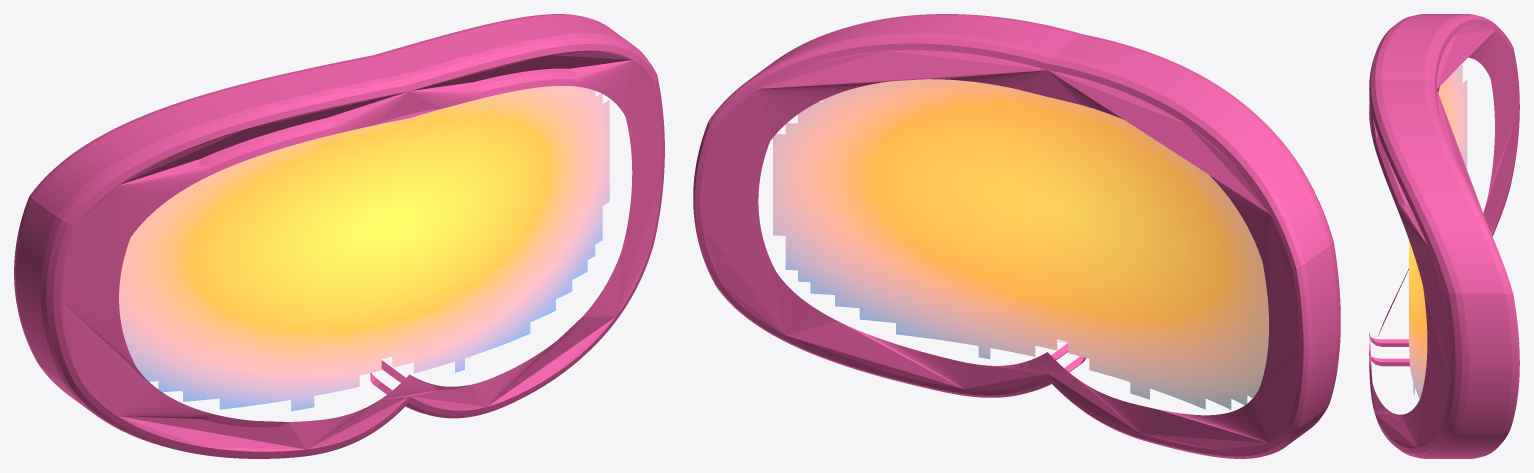
Rendered from Ski_goggles.glb.
3 renders of one model, left to right at view 1: azimuth 30°, elevation 25°; view 2: azimuth 150°, elevation 25°; view 3: azimuth 270°, elevation 25°, orthographic. The views are drawn at different scales.
Visible parts, largest first — view 1: Lens, Frame; view 2: Lens, Frame; view 3: Frame, Lens.
Part boxes in pixels (box(x1,y1,x2,y2)): Lens: box(119, 86, 609, 411); Frame: box(14, 14, 664, 458); Lens: box(773, 79, 1268, 409); Frame: box(693, 14, 1340, 458); Frame: box(1369, 14, 1519, 458); Lens: box(1409, 64, 1467, 398).
Bounding box in the file's own units: 2 × 1.11 × 0.4906.
